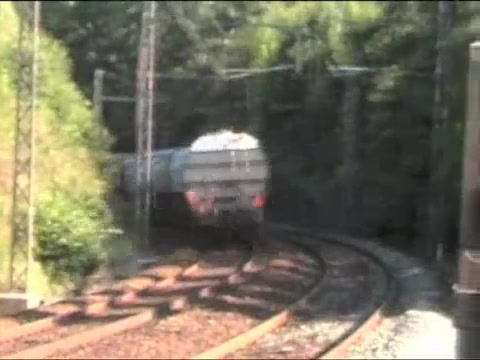train: (107, 118, 270, 248)
